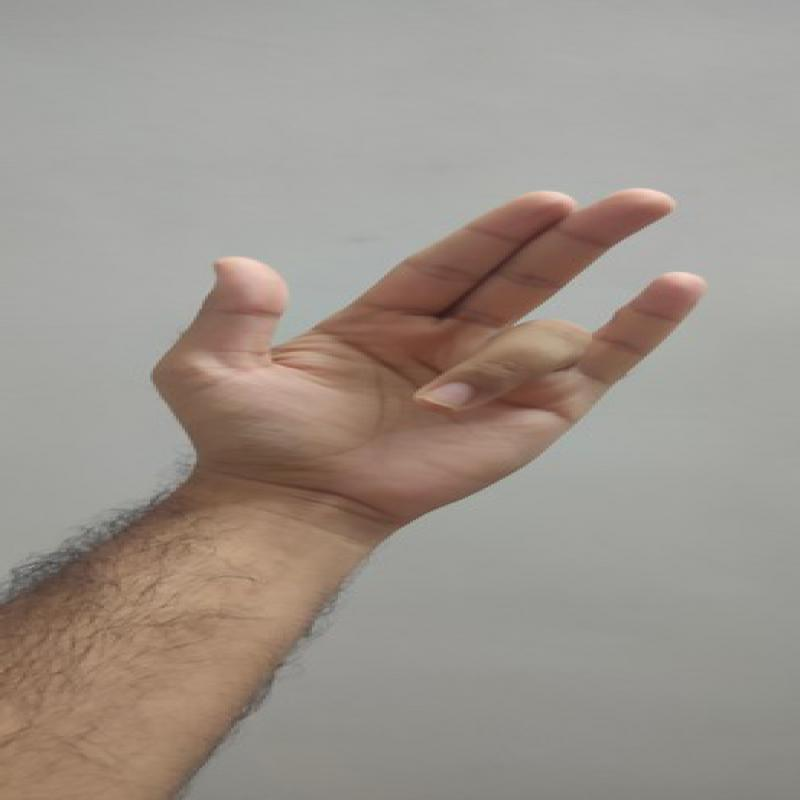Pathaaka: (146, 174, 721, 527)
